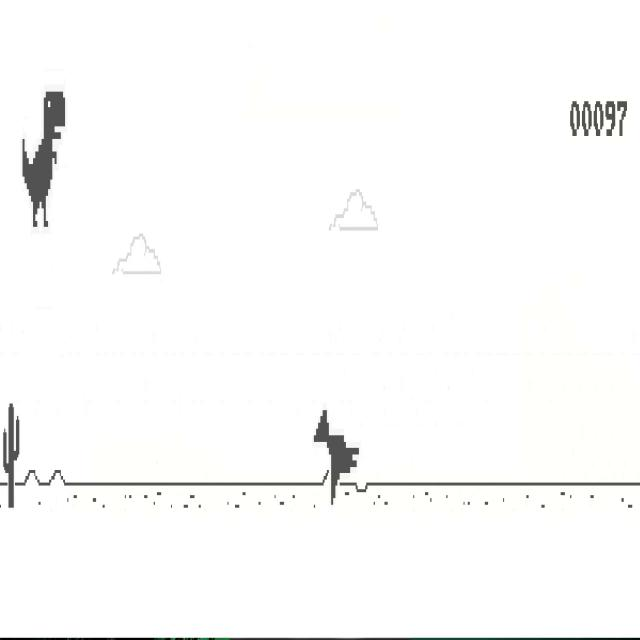cacto: (3, 402, 20, 509)
dino: (22, 89, 66, 230)
ptero: (313, 408, 360, 507)
